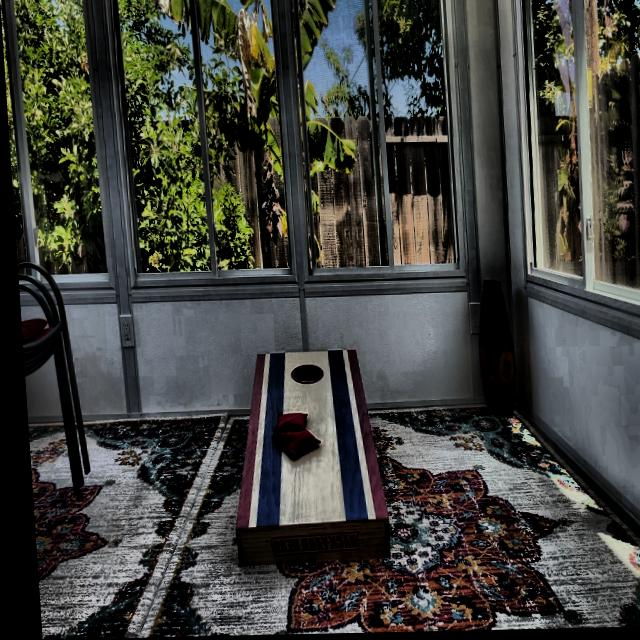board: (241, 352, 370, 529)
hole: (284, 364, 319, 385)
red-bean-bag: (269, 429, 316, 458), (266, 413, 302, 436)
